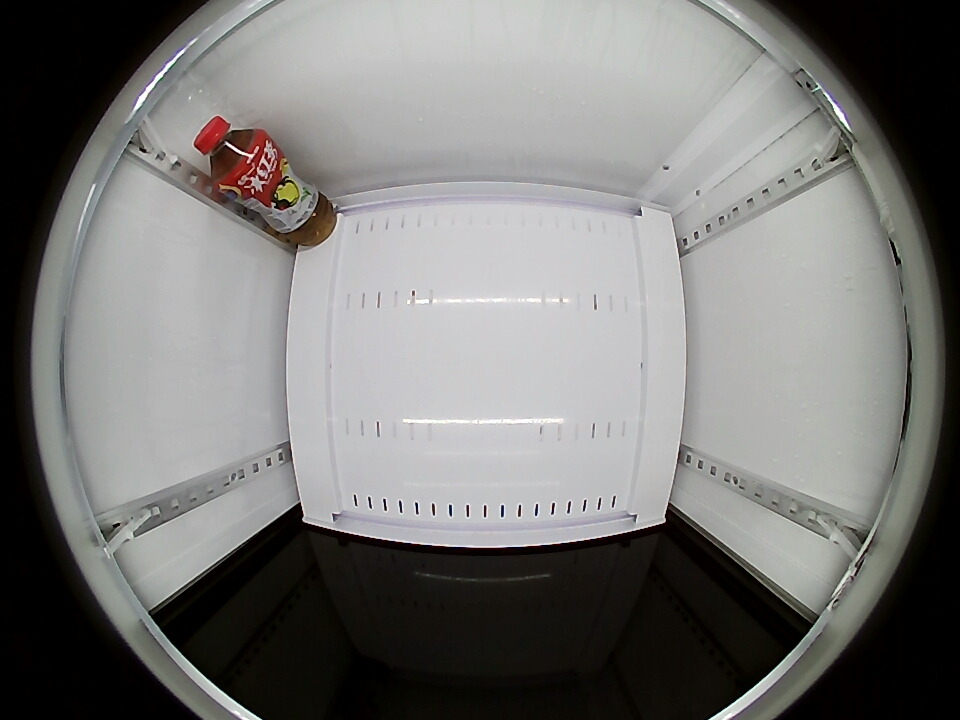binghongcha: (193, 115, 268, 193)
